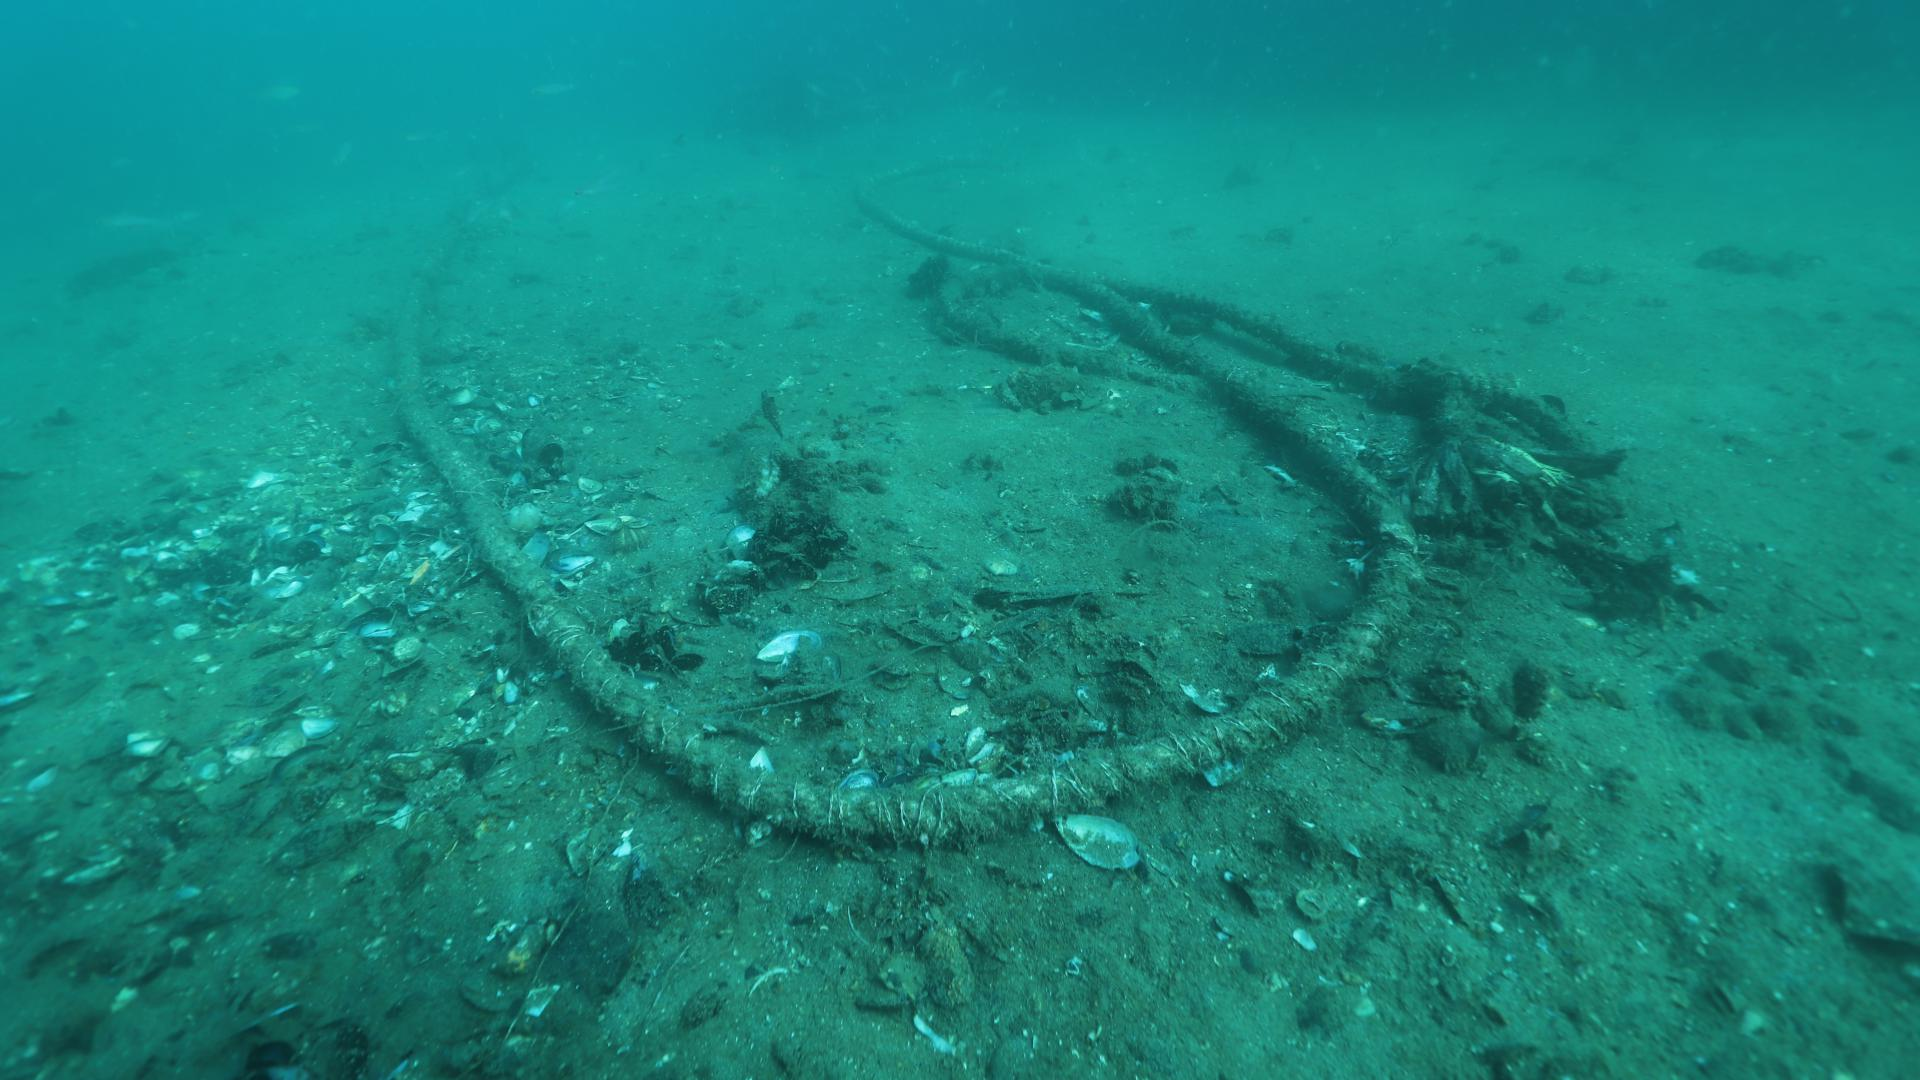bundle of ropes: (392, 260, 1590, 855)
